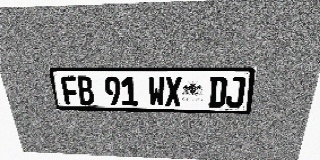1: (120, 76, 138, 106)
9: (104, 76, 122, 106)
B: (76, 76, 95, 105)
D: (208, 76, 228, 107)
F: (60, 76, 80, 105)
J: (225, 76, 246, 108)
W: (148, 76, 165, 106)
X: (165, 76, 182, 107)
